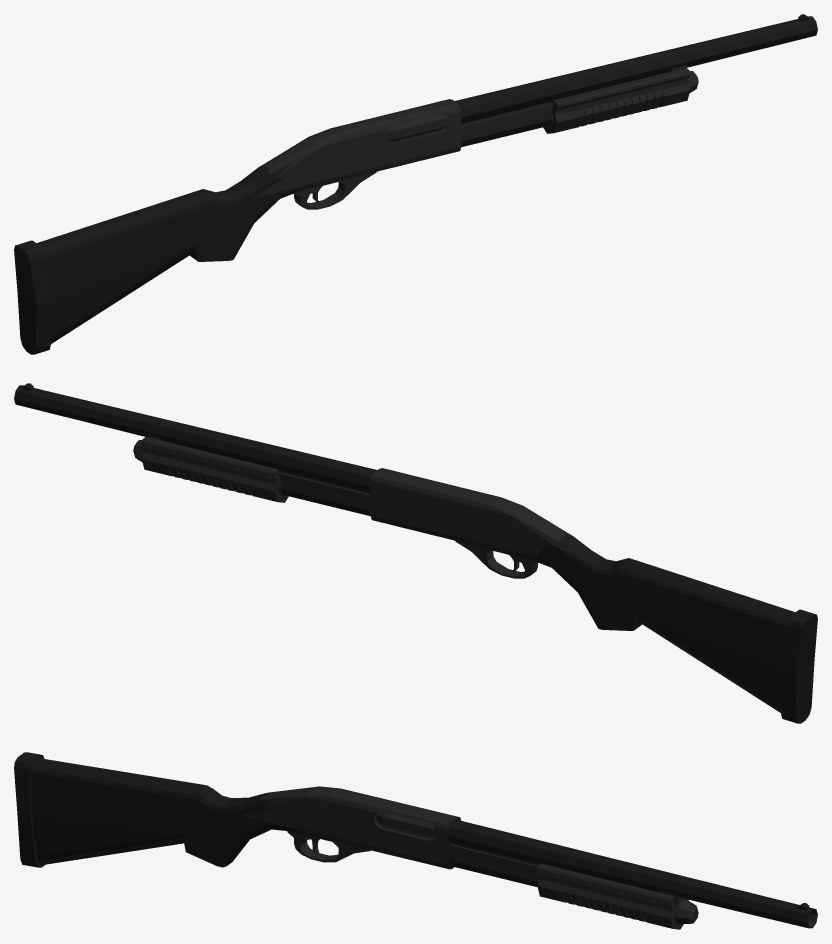
The model's file is Remington 870.fbx.
3 views of the same model, one above another, from view 1: azimuth 30°, elevation 25°; view 2: azimuth 150°, elevation 25°; view 3: azimuth 330°, elevation 25° (orthographic).
Parts seen in each view (by area): view 1: Base, Handguard, Pump; view 2: Base, Handguard, Pump; view 3: Base, Handguard, Pump, Mag Cap.
Boxes of the visible parts, x1,y1,x2,y2 form: Base: (14, 14, 817, 354); Handguard: (543, 68, 690, 133); Pump: (387, 101, 553, 142); Base: (14, 383, 817, 723); Handguard: (141, 437, 288, 502); Pump: (278, 470, 370, 502); Base: (14, 752, 817, 928); Handguard: (537, 863, 688, 929); Pump: (376, 811, 539, 873); Mag Cap: (675, 900, 698, 924).
Bounding box in the file's own units: 402 × 72.51 × 18.01.
